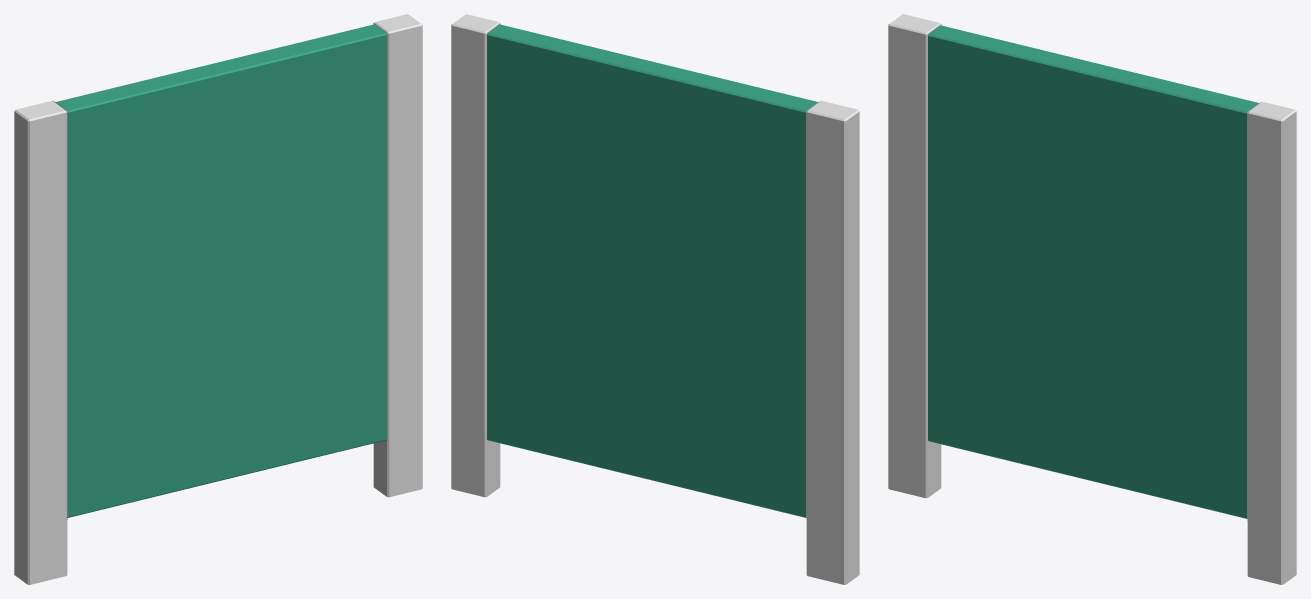
File: ToiletStall.fbx
3 views of the same model, side by side, from view 1: azimuth 30°, elevation 25°; view 2: azimuth 150°, elevation 25°; view 3: azimuth 330°, elevation 25° (orthographic).
Parts seen in each view (by area): view 1: ToiletStall; view 2: ToiletStall; view 3: ToiletStall.
Part boxes in pixels (x1=…): ToiletStall: x1=14, y1=14, x2=422, y2=584; ToiletStall: x1=451, y1=14, x2=859, y2=584; ToiletStall: x1=888, y1=14, x2=1296, y2=584.
Bounding box in the file's own units: 535 × 602 × 35.
